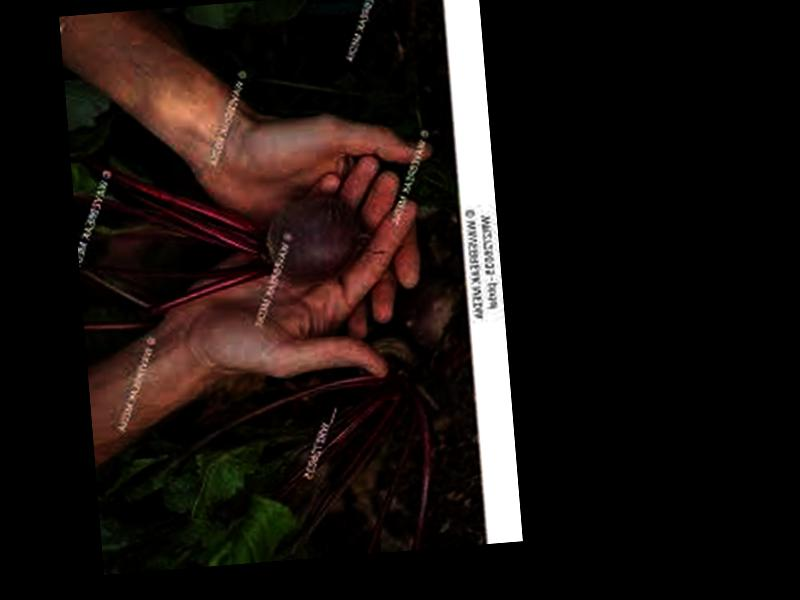Beet: (79, 131, 376, 322)
